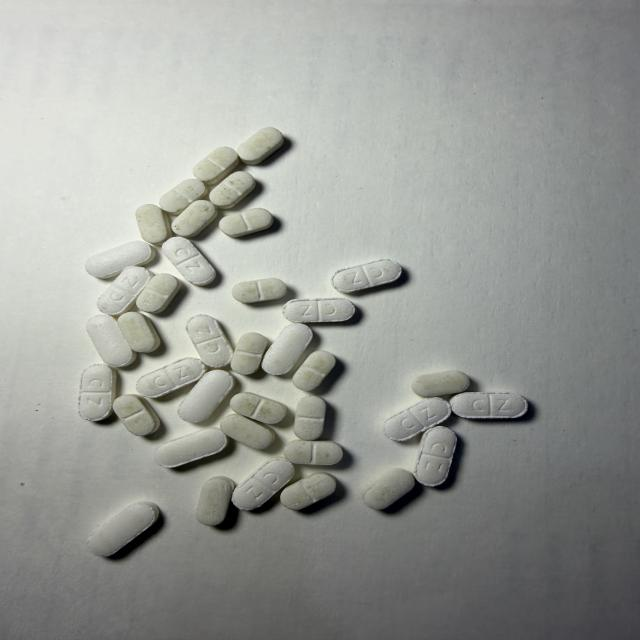pill: (88, 502, 159, 556), (232, 458, 294, 509), (178, 371, 235, 423), (384, 398, 451, 441), (155, 428, 227, 468), (137, 358, 206, 397), (86, 314, 136, 366), (86, 241, 155, 278), (262, 324, 312, 375), (98, 267, 151, 315), (162, 237, 215, 285), (186, 315, 233, 368), (415, 426, 456, 486), (332, 260, 401, 293), (79, 364, 116, 421), (364, 468, 414, 509), (281, 473, 336, 510), (450, 393, 528, 418), (220, 414, 274, 449), (196, 477, 234, 526), (114, 395, 160, 435), (231, 392, 286, 424), (283, 298, 355, 322), (136, 274, 180, 313), (238, 127, 283, 165), (193, 147, 239, 184), (118, 312, 160, 352), (293, 351, 335, 391), (172, 200, 217, 237), (210, 172, 255, 209), (160, 179, 206, 214), (219, 208, 273, 237), (412, 371, 469, 397), (231, 333, 267, 374), (283, 440, 342, 465), (294, 396, 326, 440), (136, 204, 170, 244), (232, 278, 286, 303)
